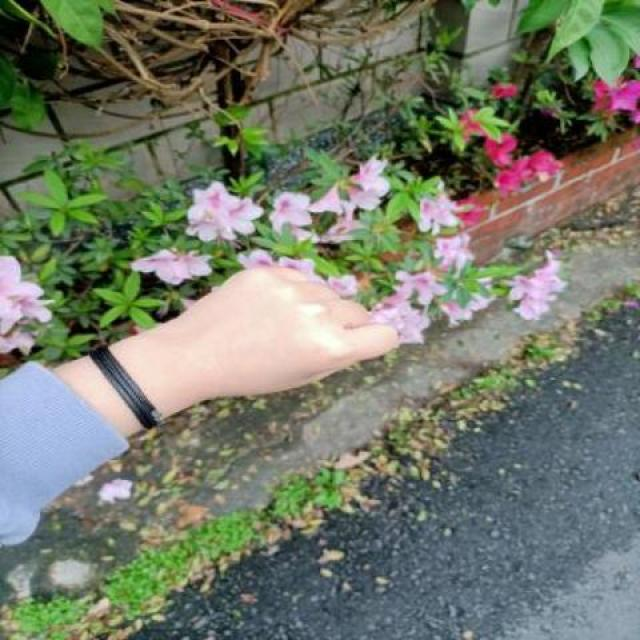Closed Hand: (178, 262, 399, 421)
